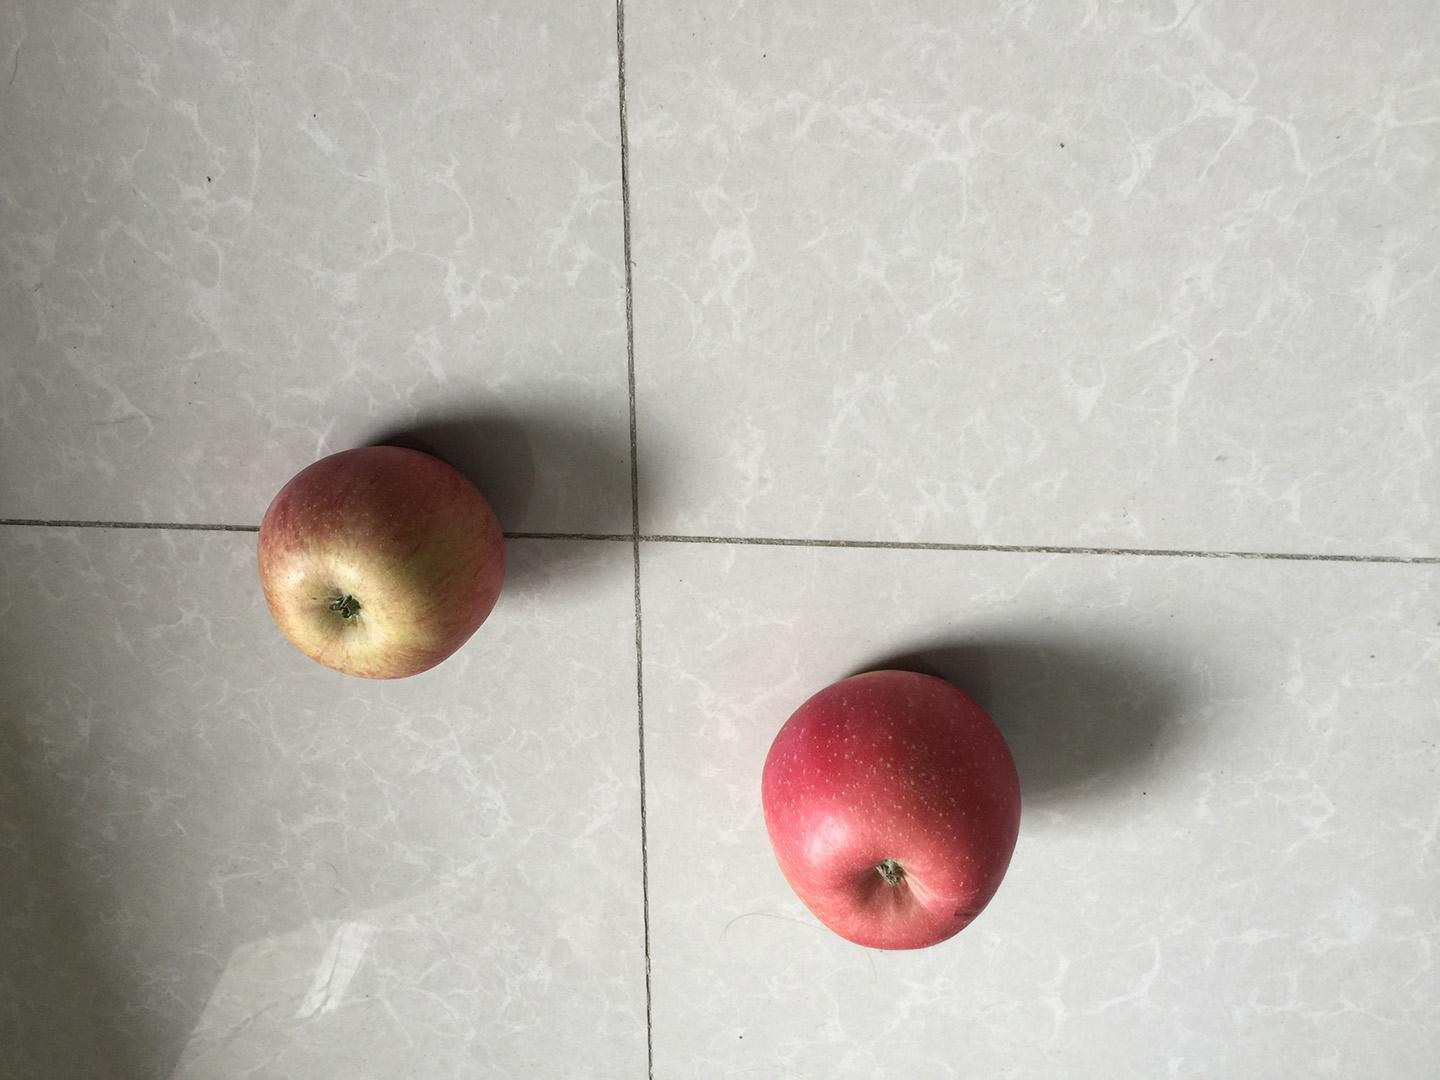apple: (751, 661, 1030, 963), (252, 434, 514, 687)
